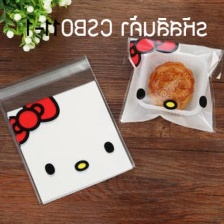snack: (0, 49, 140, 210), (113, 31, 224, 137)
